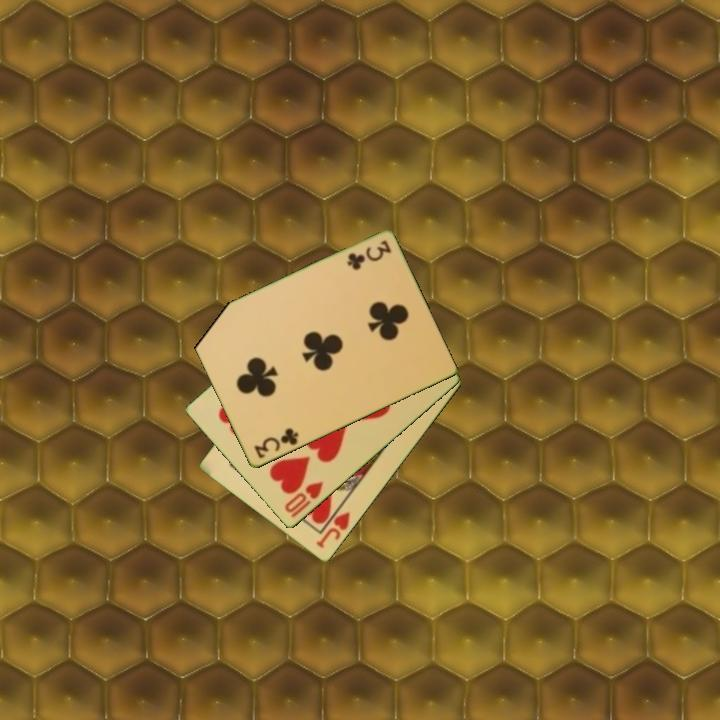10h: (281, 478, 326, 521)
3c: (250, 425, 301, 462), (343, 237, 394, 273)
Jh: (313, 500, 353, 552)
